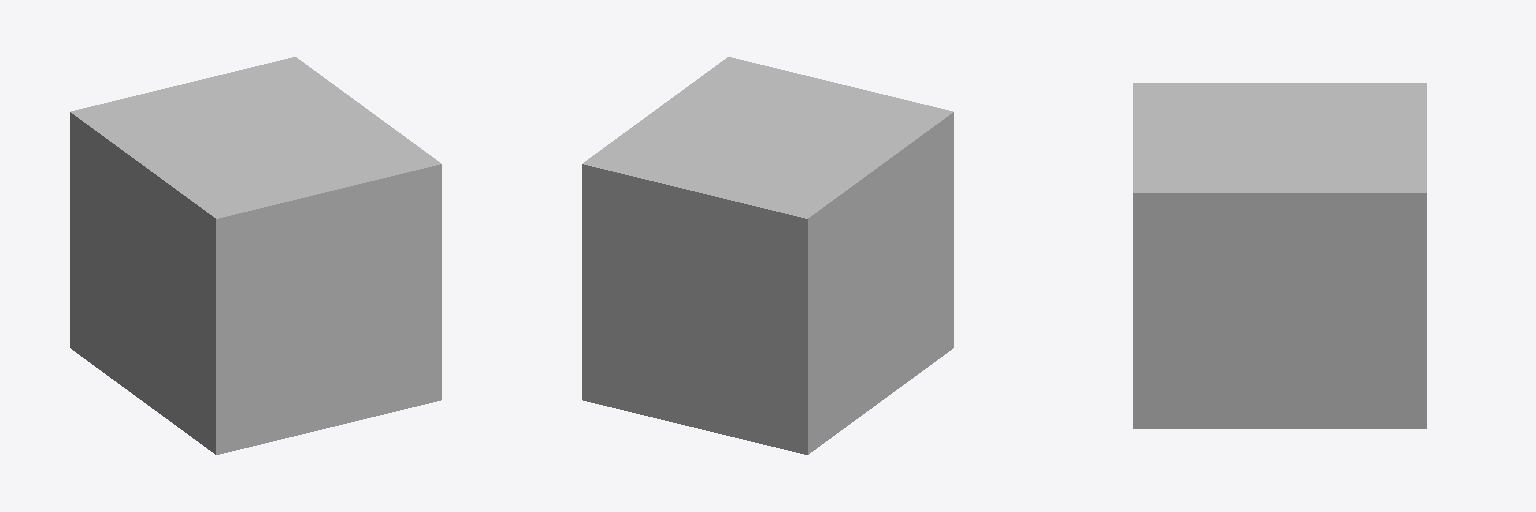
File: steve.obj
3 views of the same model, side by side, from view 1: azimuth 30°, elevation 25°; view 2: azimuth 150°, elevation 25°; view 3: azimuth 270°, elevation 25° (orthographic).
Parts seen in each view (by area): view 1: group[number redacted], group[number redacted], group[number redacted], group[number redacted], group[number redacted], group[number redacted], group[number redacted], group[number redacted], group[number redacted], group[number redacted], group[number redacted], group[number redacted] (+4 smaller); view 2: group[number redacted], group[number redacted], group[number redacted], group[number redacted], group[number redacted], group[number redacted], group[number redacted], group[number redacted], group[number redacted], group[number redacted], group[number redacted], group[number redacted] (+24 smaller); view 3: group[number redacted], group[number redacted], group[number redacted], group[number redacted], group[number redacted], group[number redacted], group[number redacted], group[number redacted], group[number redacted], group[number redacted], group[number redacted], group[number redacted] (+8 smaller).
Part boxes in pixels (x1,y1,x2,y2): group[number redacted]: (200,152,441,395); group[number redacted]: (114,74,396,199); group[number redacted]: (86,117,226,294); group[number redacted]: (200,336,441,425); group[number redacted]: (151,260,199,412); group[number redacted]: (245,378,413,447); group[number redacted]: (86,331,244,454); group[number redacted]: (70,57,311,181); group[number redacted]: (86,242,118,353); group[number redacted]: (119,237,150,347); group[number redacted]: (284,68,408,146); group[number redacted]: (86,213,118,265); group[number redacted]: (626,76,908,199); group[number redacted]: (582,152,823,277); group[number redacted]: (797,117,937,294); group[number redacted]: (582,371,823,454); group[number redacted]: (712,57,953,299); group[number redacted]: (889,213,937,365); group[number redacted]: (610,230,778,300); group[number redacted]: (824,319,953,442); group[number redacted]: (638,355,754,412); group[number redacted]: (638,325,750,381); group[number redacted]: (856,248,888,359); group[number redacted]: (824,302,855,412); group[number redacted]: (1174,179,1397,281); group[number redacted]: (1166,97,1397,178); group[number redacted]: (1166,278,1263,399); group[number redacted]: (1133,83,1165,369); group[number redacted]: (1133,400,1393,428); group[number redacted]: (1329,311,1393,399); group[number redacted]: (1394,83,1426,251); group[number redacted]: (1264,282,1328,340); group[number redacted]: (1166,83,1393,96); group[number redacted]: (1166,179,1198,281); group[number redacted]: (1264,370,1328,399); group[number redacted]: (1264,341,1328,369).
Size of the model in its own units: 0.64 by 0.64 by 0.72.